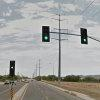Traffic light: (34, 21, 93, 55)
